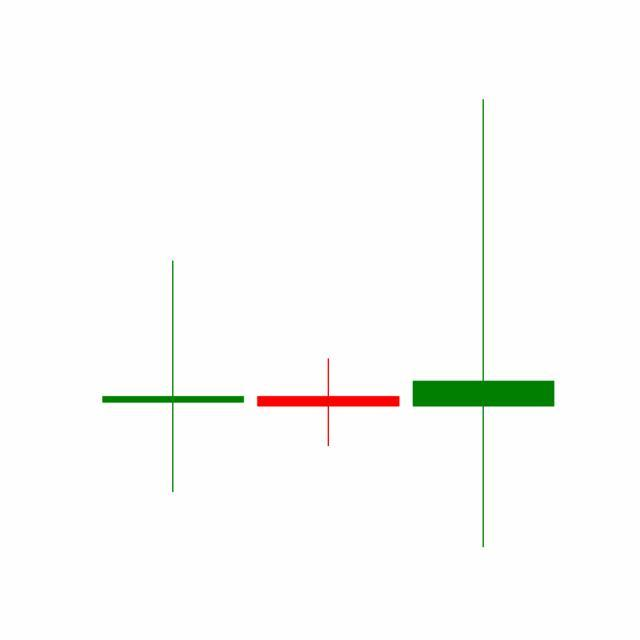Spinning Top: (250, 358, 407, 448)
